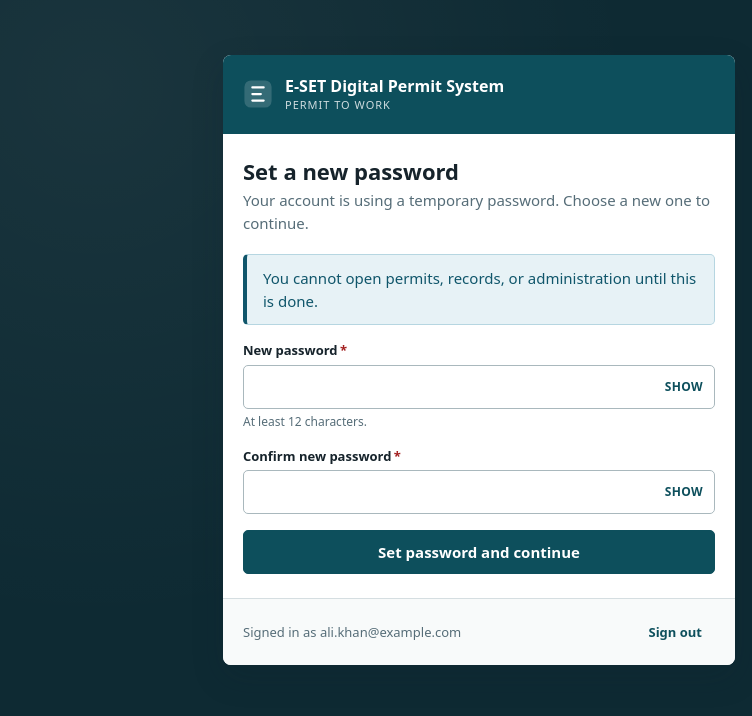
Test: a rejected change › reports a 409 (no change is actually outstanding) without technical detail
Step 1. Type "a-strong-enough-password" into the password field labelled "New password*" → (479, 387), box [243,365,715,409]
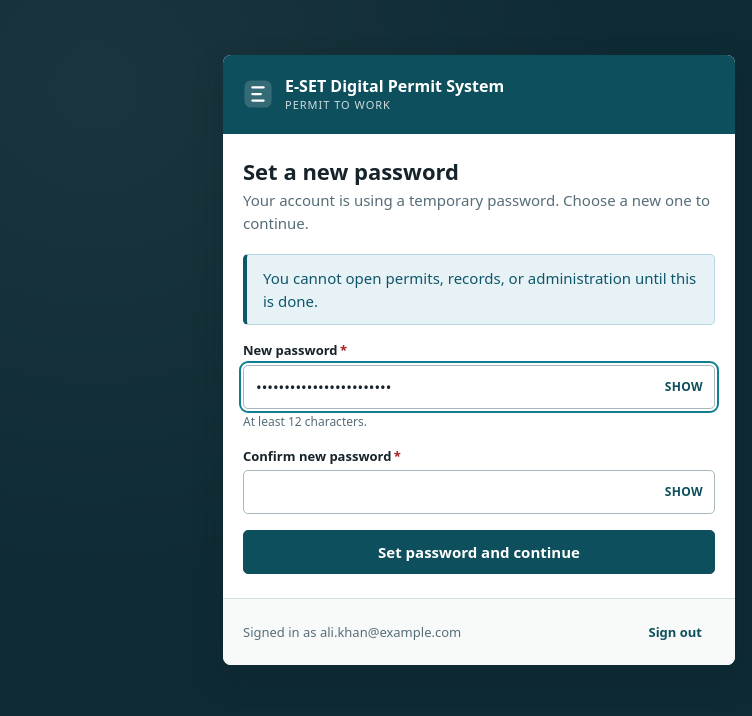
Step 2. Type "a-strong-enough-password" into the password field labelled "Confirm new password*" → (479, 492), box [243,470,715,514]
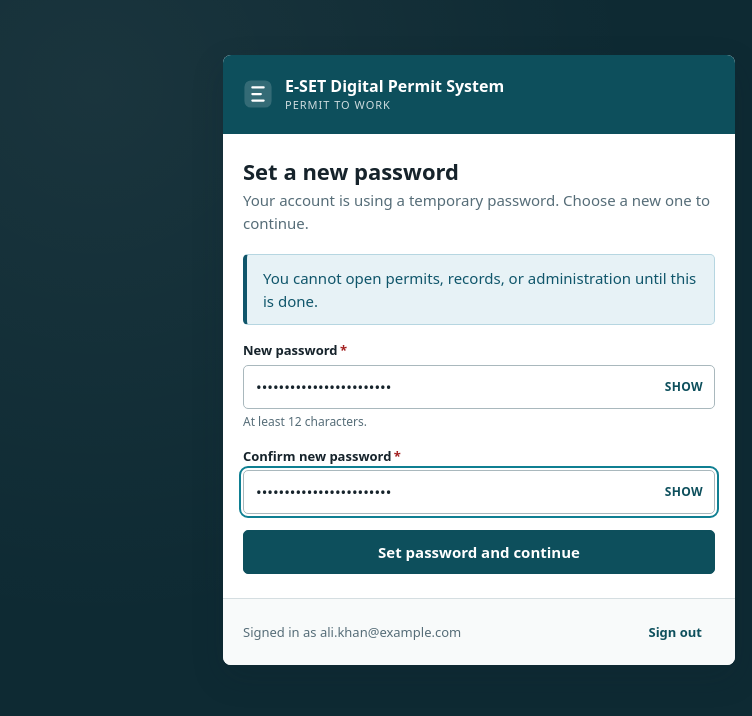
Step 3. Click the button "Set password and continue" → (479, 552), box [243,530,715,574]
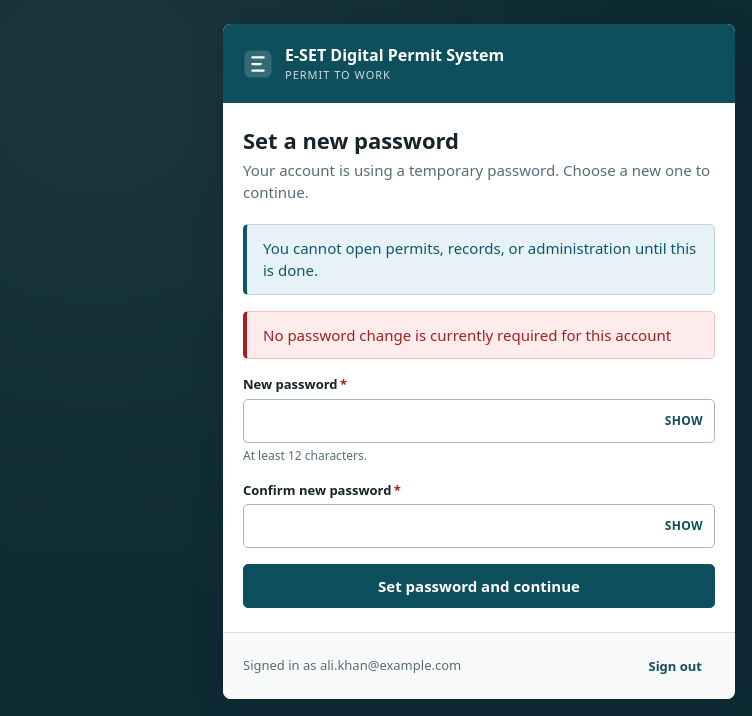
Result: the message "No password change is currently required for this account" is shown at [243,310,715,359]
